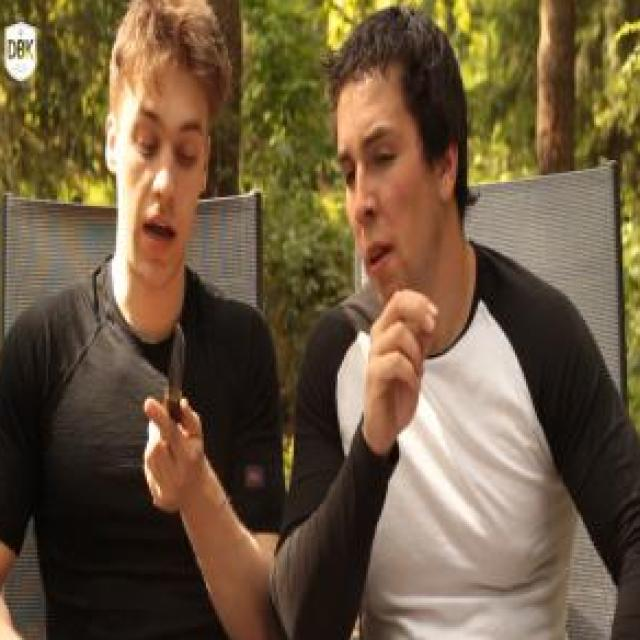knife: (142, 313, 202, 501)
